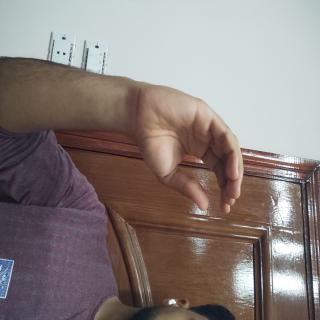JEEM: (60, 85, 164, 279)
